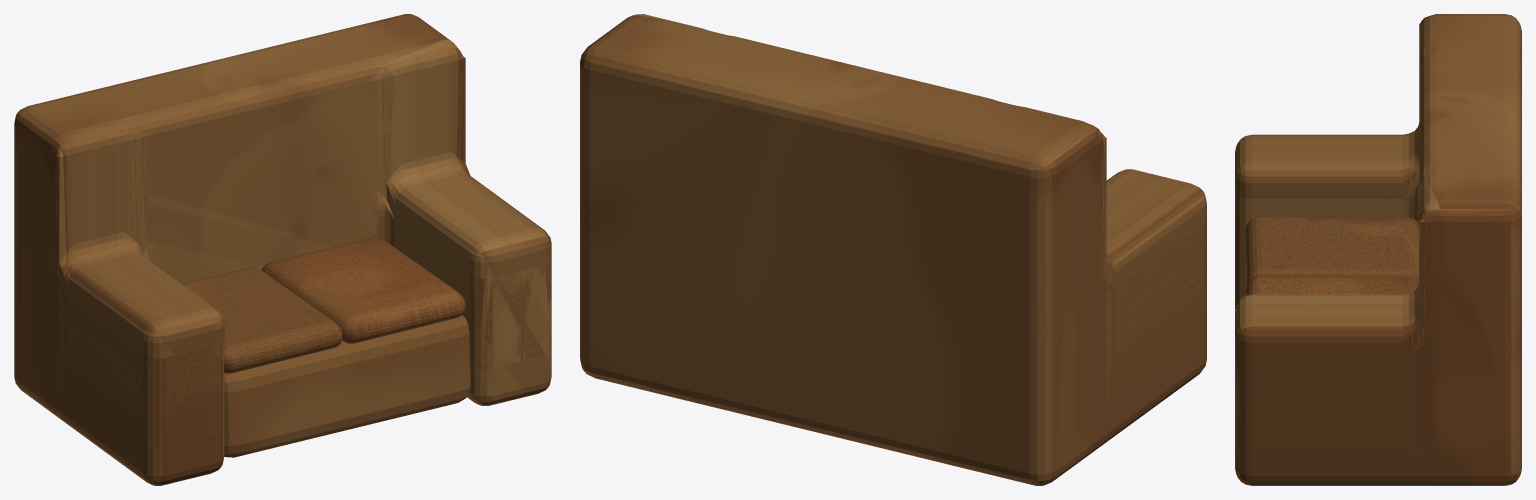
File: kavc.glb
3 views of the same model, side by side, from view 1: azimuth 30°, elevation 25°; view 2: azimuth 150°, elevation 25°; view 3: azimuth 270°, elevation 25° (orthographic). The views are drawn at different scales.
Parts seen in each view (by area): view 1: Cube, Cube.002, Cube.003, Cube.004; view 2: Cube; view 3: Cube, Cube.004, Cube.003.
Boxes of the visible parts, x1,y1,x2,y2 form: Cube: [14, 14, 551, 485]; Cube.002: [224, 314, 470, 457]; Cube.003: [262, 237, 465, 343]; Cube.004: [182, 267, 342, 373]; Cube: [580, 14, 1206, 485]; Cube: [1235, 14, 1521, 485]; Cube.004: [1245, 216, 1419, 284]; Cube.003: [1246, 277, 1418, 295].
Size of the model in its own units: 5.82 by 3.9 by 3.56.
4 materials, 4 textured.
